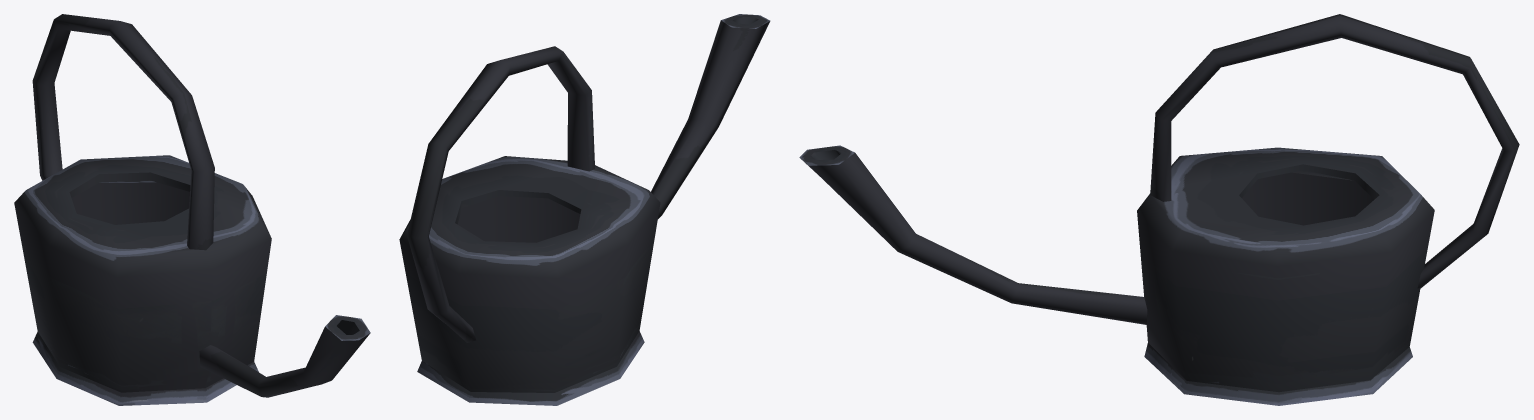
Rendered from SM_PROP_wateringcan_interior.fbx.
3 views of the same model, side by side, from view 1: azimuth 30°, elevation 25°; view 2: azimuth 150°, elevation 25°; view 3: azimuth 270°, elevation 25° (orthographic). The views are drawn at different scales.
Visible parts, largest first — view 1: SM_PROP_wateringcan_interior; view 2: SM_PROP_wateringcan_interior; view 3: SM_PROP_wateringcan_interior.
Part boxes in pixels (<box>): SM_PROP_wateringcan_interior: <box>14,14,370,405</box>; SM_PROP_wateringcan_interior: <box>399,14,770,405</box>; SM_PROP_wateringcan_interior: <box>799,14,1519,405</box>.
Size of the model in its own units: 20.6 by 30.49 by 58.16.
